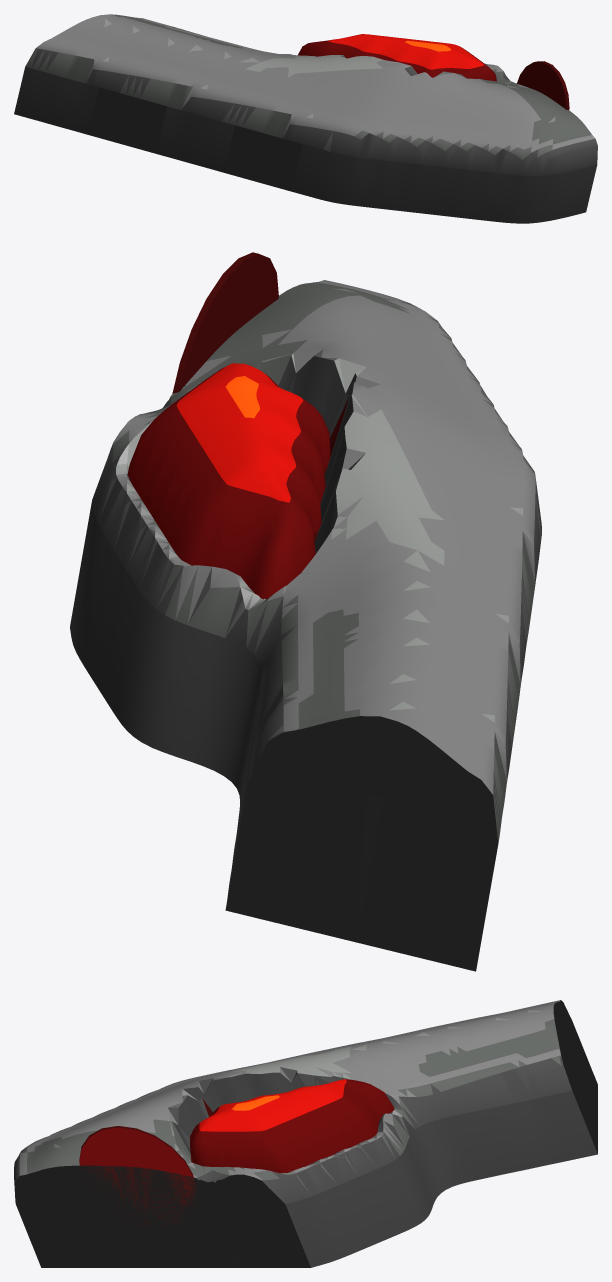
File: pincer_l_jaw.glb
3 renders of one model, top to bottom at view 1: azimuth 30°, elevation 25°; view 2: azimuth 150°, elevation 25°; view 3: azimuth 270°, elevation 25°, orthographic. The views are drawn at different scales.
Parts seen in each view (by area): view 1: pincer_l_jaw; view 2: pincer_l_jaw; view 3: pincer_l_jaw.
Boxes of the visible parts, box(x1,y1,x2,y2) form: pincer_l_jaw: box(14, 14, 597, 223); pincer_l_jaw: box(70, 252, 541, 971); pincer_l_jaw: box(14, 1000, 597, 1267).
Size of the model in its own units: 21 by 7.5 by 28.28.
